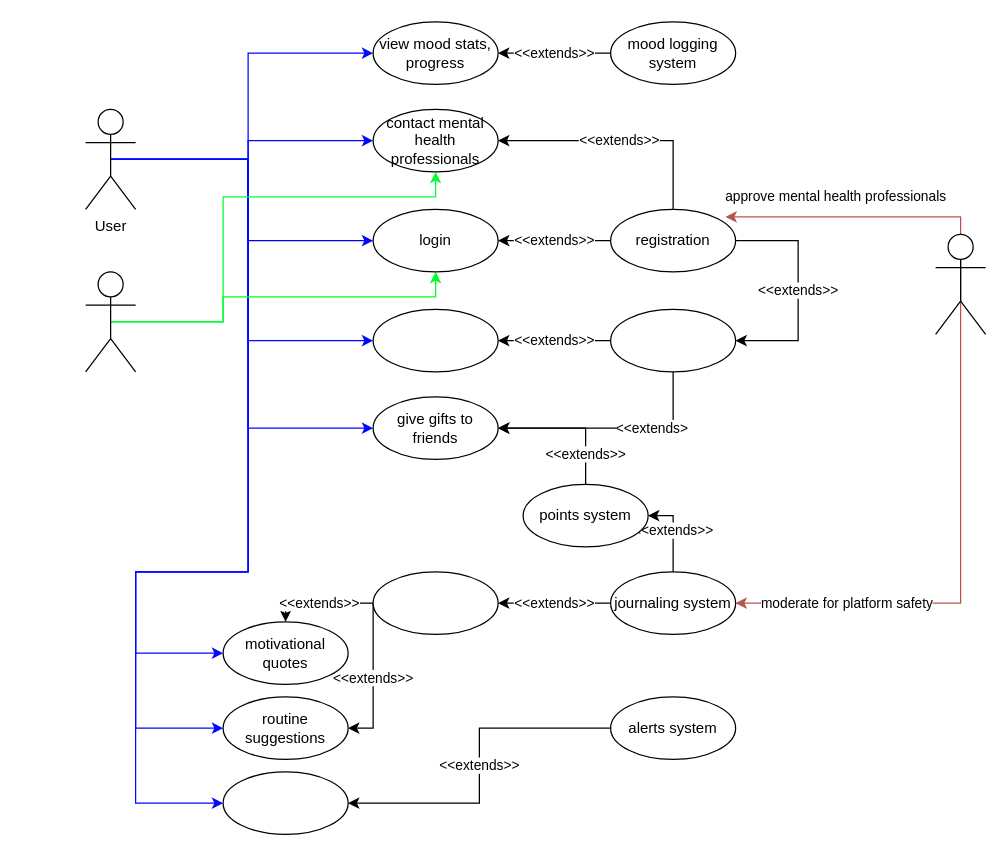
This 1008x856 diagram has some shape labels left out. Each missing label, with the centre of its shape:
"Admin" goes at point 960,283.
"friends system" goes at point 672,340.
"keyword capture" goes at point 435,602.
"medication reminders" goes at point 285,802.
"Mental Health Professional" goes at point 110,321.
"share moods and journals" goes at point 435,340.
